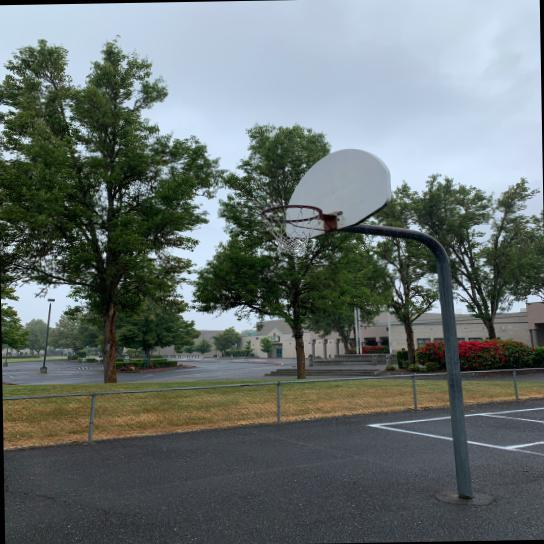basketball-hoop: (258, 202, 324, 258)
